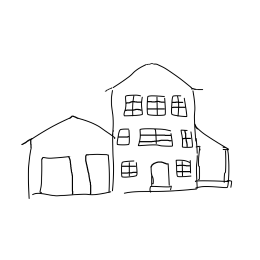closed_window: (137, 127, 175, 150), (145, 93, 168, 119), (122, 93, 145, 117), (168, 94, 190, 119), (121, 156, 141, 180), (174, 157, 193, 181), (179, 128, 195, 151), (115, 125, 130, 147)
door: (34, 152, 79, 199), (78, 154, 111, 196), (148, 157, 174, 195)
single_line_roof: (99, 58, 213, 93), (9, 114, 116, 147)
wall: (107, 93, 202, 197), (23, 140, 116, 198)
